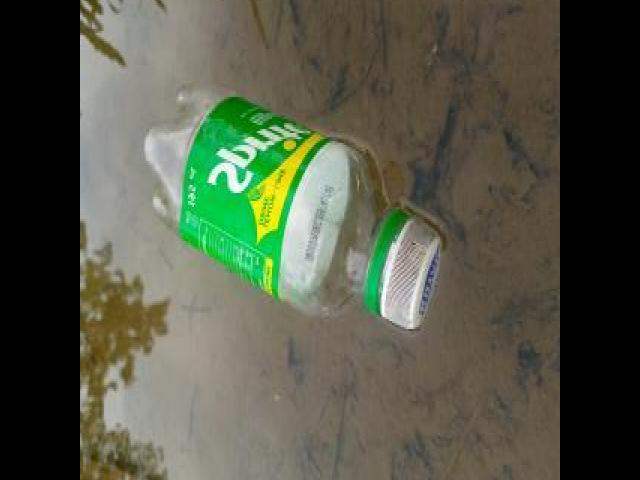Bottle: (139, 78, 461, 354)
